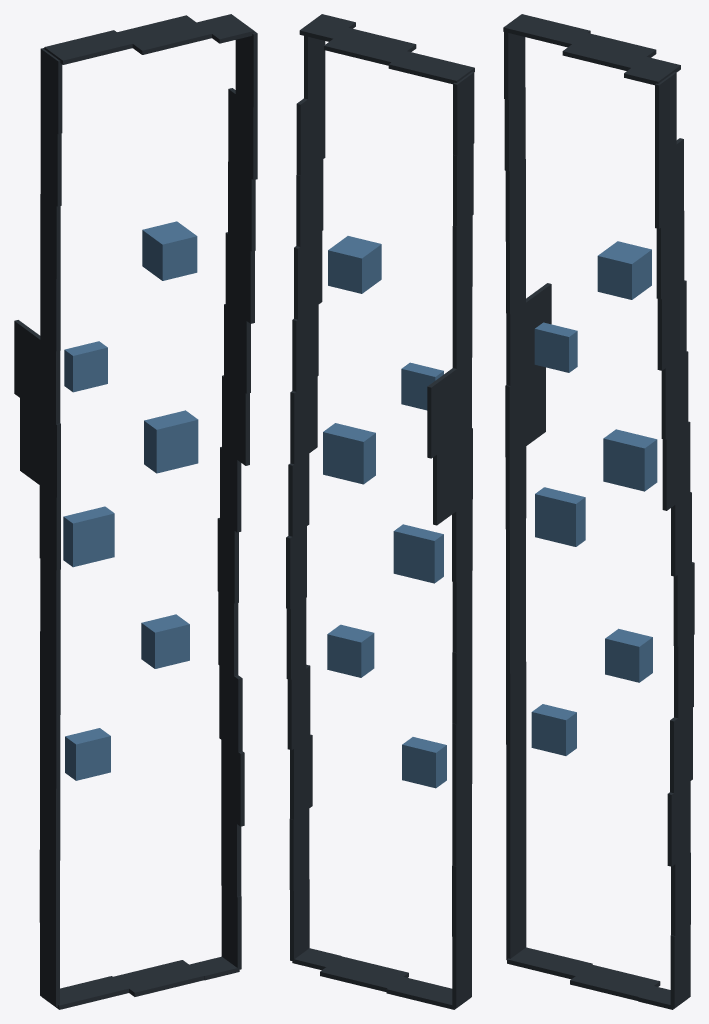
File: povo_blockout_collision.obj
3 views of the same model, side by side, from view 1: azimuth 30°, elevation 25°; view 2: azimuth 150°, elevation 25°; view 3: azimuth 330°, elevation 25° (orthographic). The views are drawn at different scales.
Visible parts, largest first — view 1: boundary_west_09, boundary_west_08, cover_mid_east, cover_north_east, cover_mid_west, cover_south_east, boundary_east_12, boundary_east_10, boundary_north_02, cover_south_west, boundary_east_08, boundary_east_11 (+26 smaller); view 2: boundary_west_09, boundary_west_08, cover_mid_east, cover_north_east, cover_mid_west, boundary_east_12, cover_south_east, boundary_east_10, boundary_east_08, boundary_north_02, boundary_east_11, cover_south_west (+26 smaller); view 3: boundary_west_08, cover_mid_east, boundary_west_09, cover_north_east, cover_mid_west, cover_south_east, boundary_east_10, boundary_east_12, boundary_east_08, boundary_east_11, boundary_north_02, cover_south_west (+26 smaller).
Boxes of the visible parts, bbox=[...] form: boundary_west_09: bbox=[14, 320, 60, 424]; boundary_west_08: bbox=[20, 398, 60, 497]; cover_mid_east: bbox=[144, 410, 198, 473]; cover_north_east: bbox=[142, 221, 197, 280]; cover_mid_west: bbox=[63, 506, 114, 567]; cover_south_east: bbox=[141, 614, 189, 668]; boundary_east_12: bbox=[228, 88, 257, 179]; boundary_east_10: bbox=[225, 232, 254, 323]; boundary_north_02: bbox=[117, 15, 211, 54]; cover_south_west: bbox=[65, 728, 110, 780]; boundary_east_08: bbox=[222, 375, 249, 465]; boundary_east_11: bbox=[228, 162, 255, 251]; boundary_west_09: bbox=[427, 358, 471, 458]; boundary_west_08: bbox=[433, 428, 472, 525]; cover_mid_east: bbox=[323, 423, 375, 484]; cover_north_east: bbox=[328, 236, 381, 293]; cover_mid_west: bbox=[393, 524, 443, 583]; boundary_east_12: bbox=[296, 87, 325, 175]; cover_south_east: bbox=[327, 624, 374, 677]; boundary_east_10: bbox=[294, 231, 322, 319]; boundary_east_08: bbox=[290, 376, 317, 464]; boundary_north_02: bbox=[324, 27, 416, 65]; boundary_east_11: bbox=[296, 159, 323, 246]; cover_south_west: bbox=[402, 737, 446, 788]; boundary_west_08: bbox=[505, 365, 545, 458]; cover_mid_east: bbox=[603, 429, 657, 491]; boundary_west_09: bbox=[506, 283, 551, 385]; cover_north_east: bbox=[597, 241, 651, 299]; cover_mid_west: bbox=[535, 487, 585, 546]; cover_south_east: bbox=[605, 628, 652, 682]; boundary_east_10: bbox=[657, 280, 686, 370]; boundary_east_12: bbox=[655, 138, 683, 228]; boundary_east_08: bbox=[662, 421, 690, 510]; boundary_east_11: bbox=[656, 211, 684, 299]; boundary_north_02: bbox=[562, 33, 656, 70]; cover_south_west: bbox=[531, 704, 576, 755].
Size of what is drawn, in the model's own units: 25.6 by 131 by 16.22.
